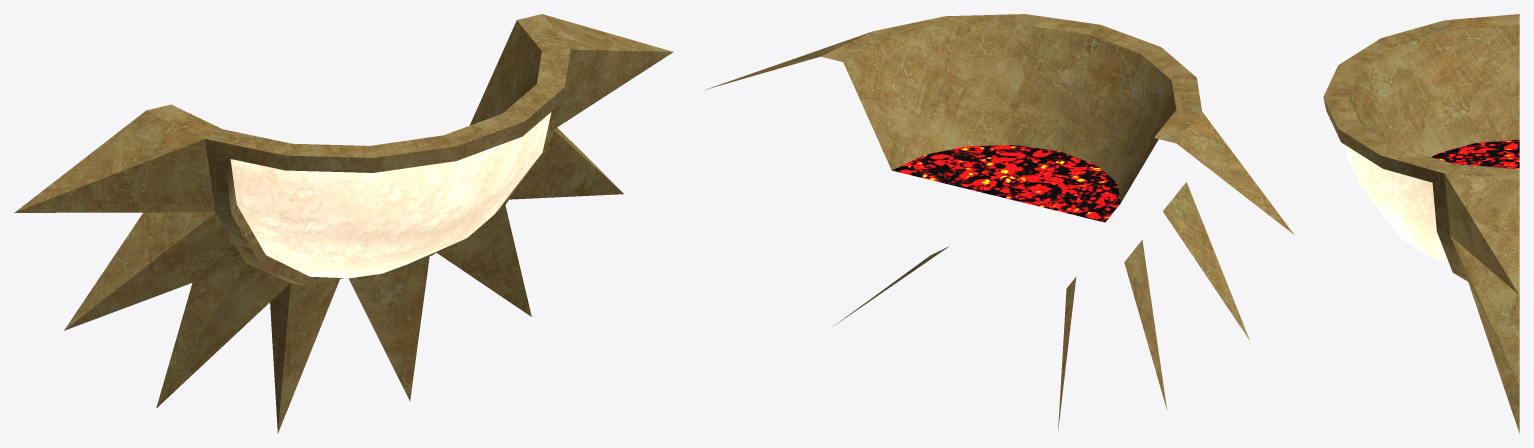
Rendered from lamp.gltf.
3 views of the same model, side by side, from view 1: azimuth 30°, elevation 25°; view 2: azimuth 150°, elevation 25°; view 3: azimuth 270°, elevation 25° (orthographic). The views are drawn at different scales.
Parts seen in each view (by area): view 1: Lampara; view 2: Lampara; view 3: Lampara.
Boxes of the visible parts, <box> form: Lampara: <box>14,14,673,433</box>; Lampara: <box>705,14,1294,431</box>; Lampara: <box>1323,14,1519,433</box>.
Bounding box in the file's own units: 206 × 106 × 61.94.
1 material, 1 textured.
